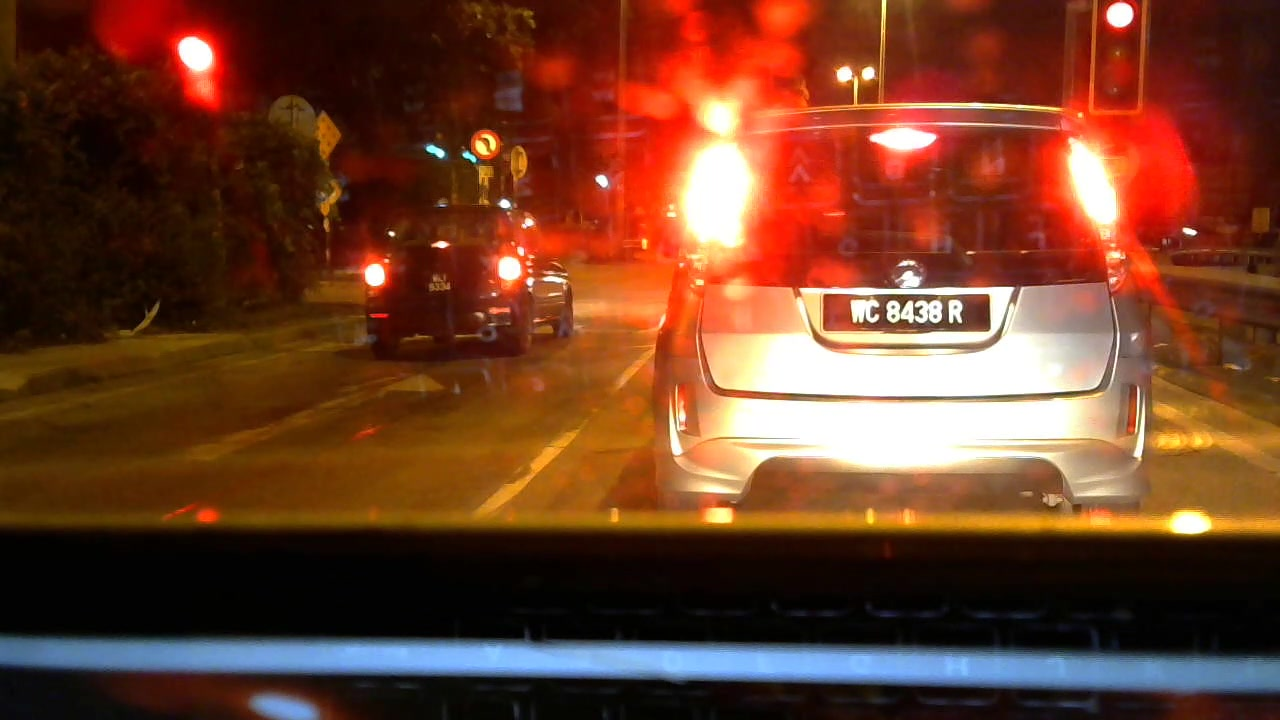Car: (643, 91, 1158, 511), (355, 197, 574, 364)
